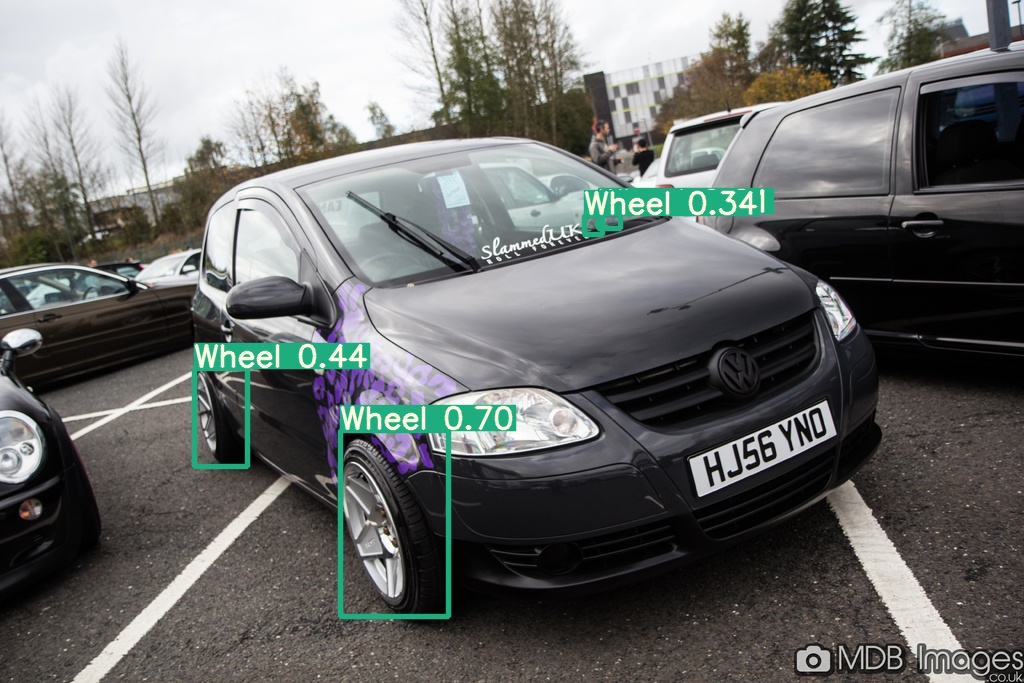Wheel: (335, 443, 447, 618), (61, 423, 102, 542), (200, 363, 243, 466)
